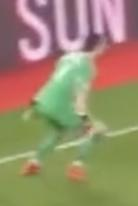goalkeeper: (6, 18, 125, 189)
